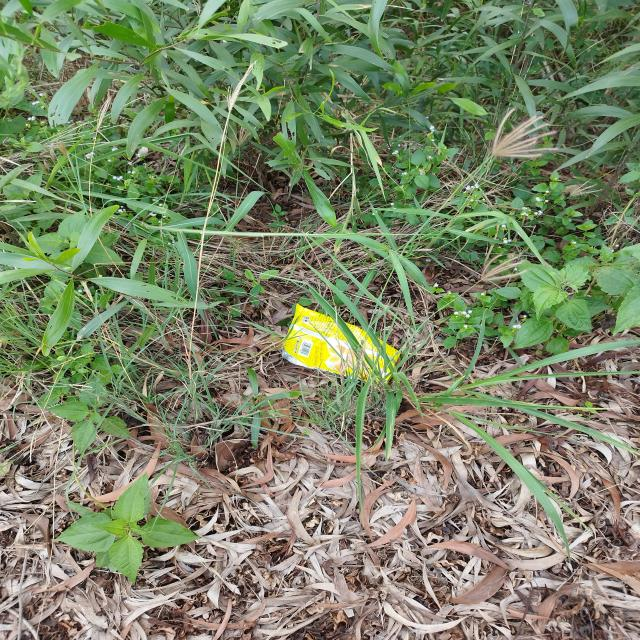snack package: (280, 303, 402, 384)
